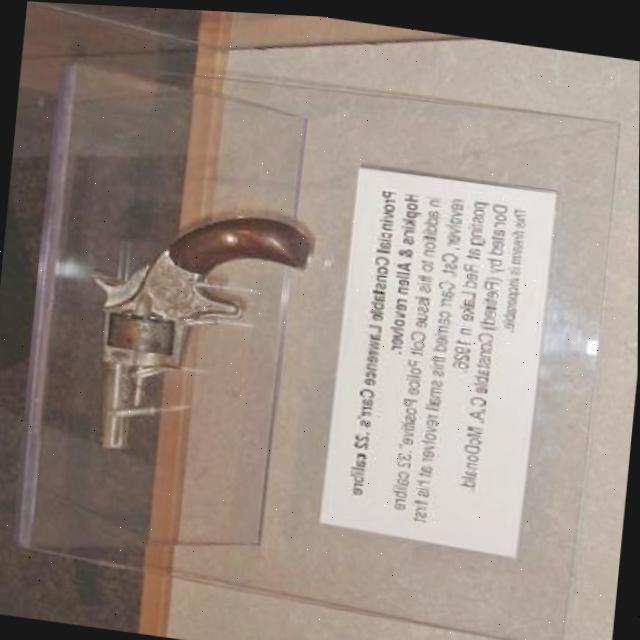gun: (66, 192, 313, 473)
